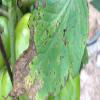Tomato Septoria leaf spot: (5, 1, 91, 99)
